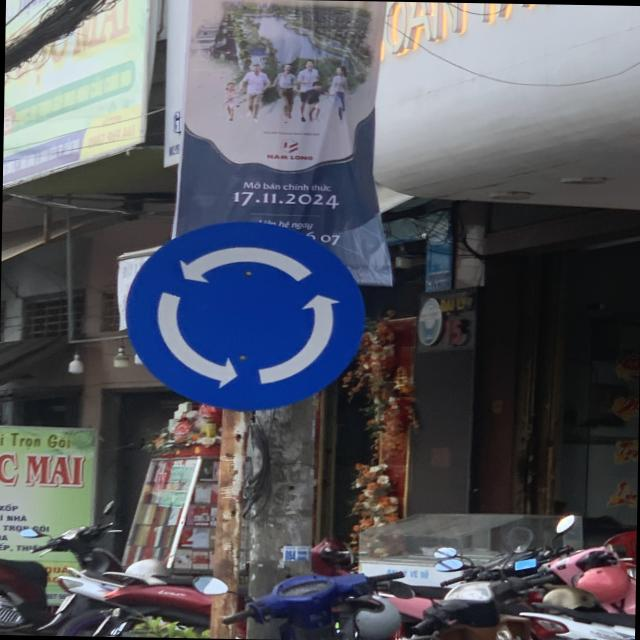Xe_Bus: (124, 220, 374, 414)
